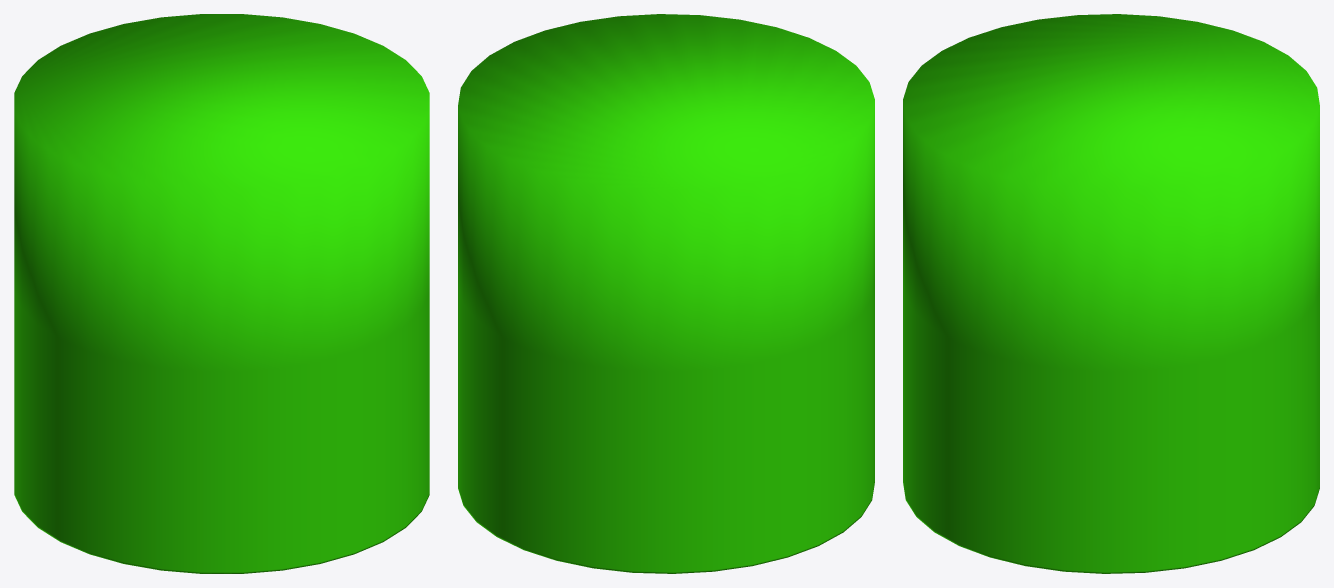
File: Pipe-Body.fbx
3 renders of one model, left to right at view 1: azimuth 30°, elevation 25°; view 2: azimuth 150°, elevation 25°; view 3: azimuth 270°, elevation 25°, orthographic.
Visible parts, largest first — view 1: Circle.001; view 2: Circle.001; view 3: Circle.001.
Boxes of the visible parts, x1,y1,x2,y2 form: Circle.001: [14, 14, 429, 573]; Circle.001: [458, 14, 874, 573]; Circle.001: [903, 14, 1319, 573].
Bounding box in the file's own units: 2.21 × 2.24 × 2.21.
